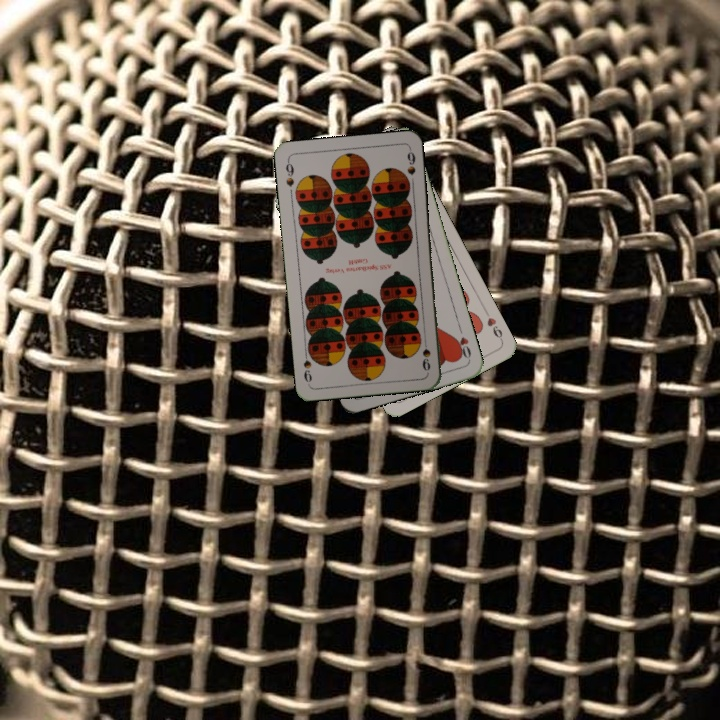H9: (481, 306, 505, 344)
HO: (450, 322, 474, 362)
S9: (418, 333, 433, 373), (282, 156, 297, 189)
